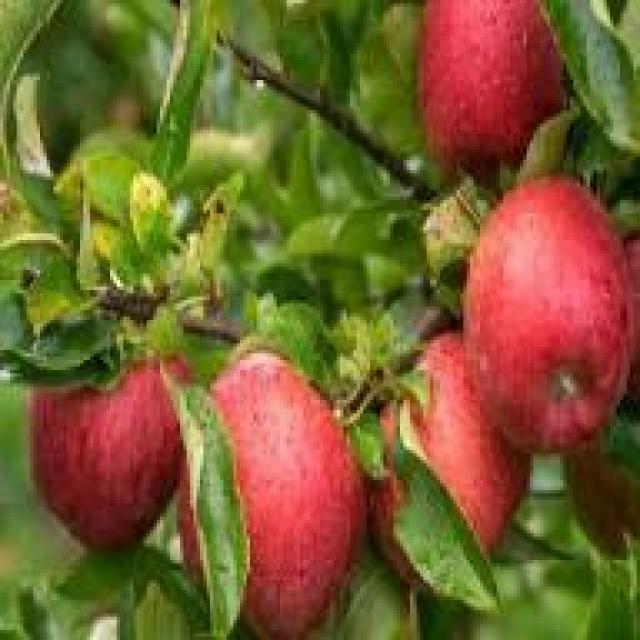apple: (180, 350, 370, 633), (463, 176, 627, 446), (20, 313, 183, 560), (364, 326, 524, 576), (414, 7, 564, 170)
